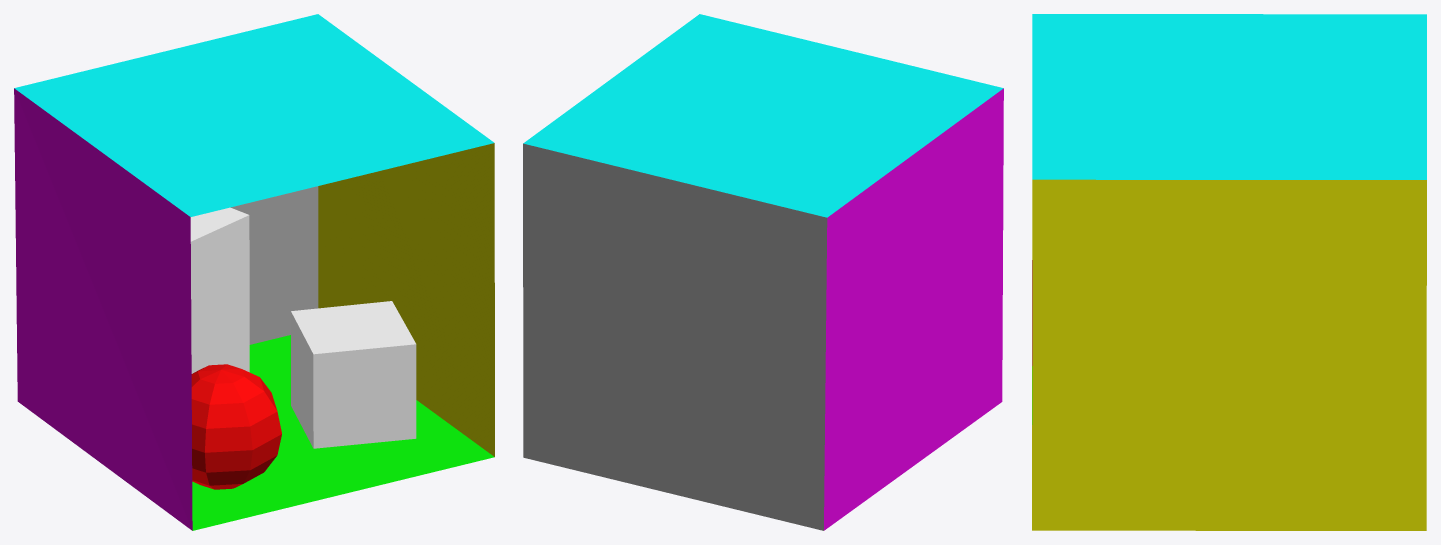
Rendered from cornell-box.obj.
3 renders of one model, left to right at view 1: azimuth 30°, elevation 25°; view 2: azimuth 150°, elevation 25°; view 3: azimuth 270°, elevation 25°, orthographic. The views are drawn at different scales.
Visible parts, largest first — view 1: left_wall, ceiling, right_wal, short_box, floor, back_wall, sphere, tall_box; view 2: back_wall, left_wall, ceiling; view 3: right_wal, ceiling.
Boxes of the visible parts, x1=… form: left_wall: x1=14, y1=88, x2=192, y2=530; ceiling: x1=14, y1=14, x2=494, y2=216; right_wal: x1=318, y1=143, x2=494, y2=456; short_box: x1=291, y1=301, x2=416, y2=448; floor: x1=192, y1=335, x2=494, y2=530; back_wall: x1=230, y1=186, x2=318, y2=344; sphere: x1=191, y1=364, x2=281, y2=489; tall_box: x1=190, y1=207, x2=249, y2=373; back_wall: x1=523, y1=143, x2=827, y2=530; left_wall: x1=824, y1=88, x2=1003, y2=530; ceiling: x1=523, y1=14, x2=1003, y2=217; right_wal: x1=1032, y1=179, x2=1426, y2=530; ceiling: x1=1032, y1=14, x2=1426, y2=179.
Size of the model in its own units: 5.56 by 5.54 by 5.6.
